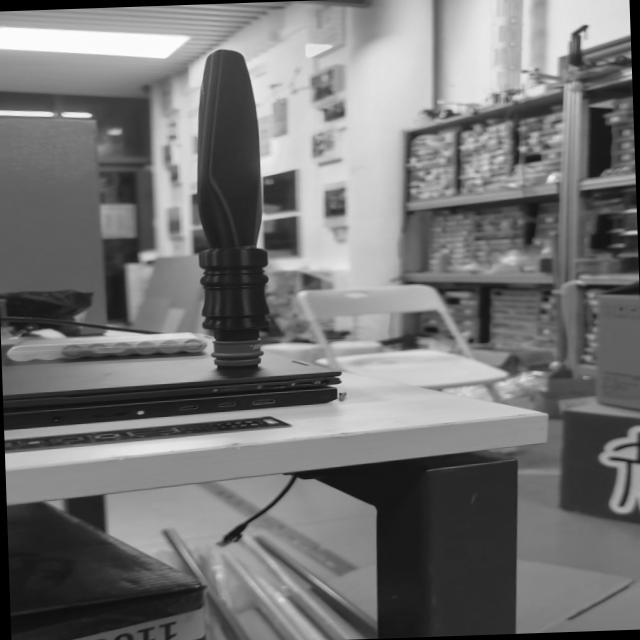base: (206, 336, 274, 378)
